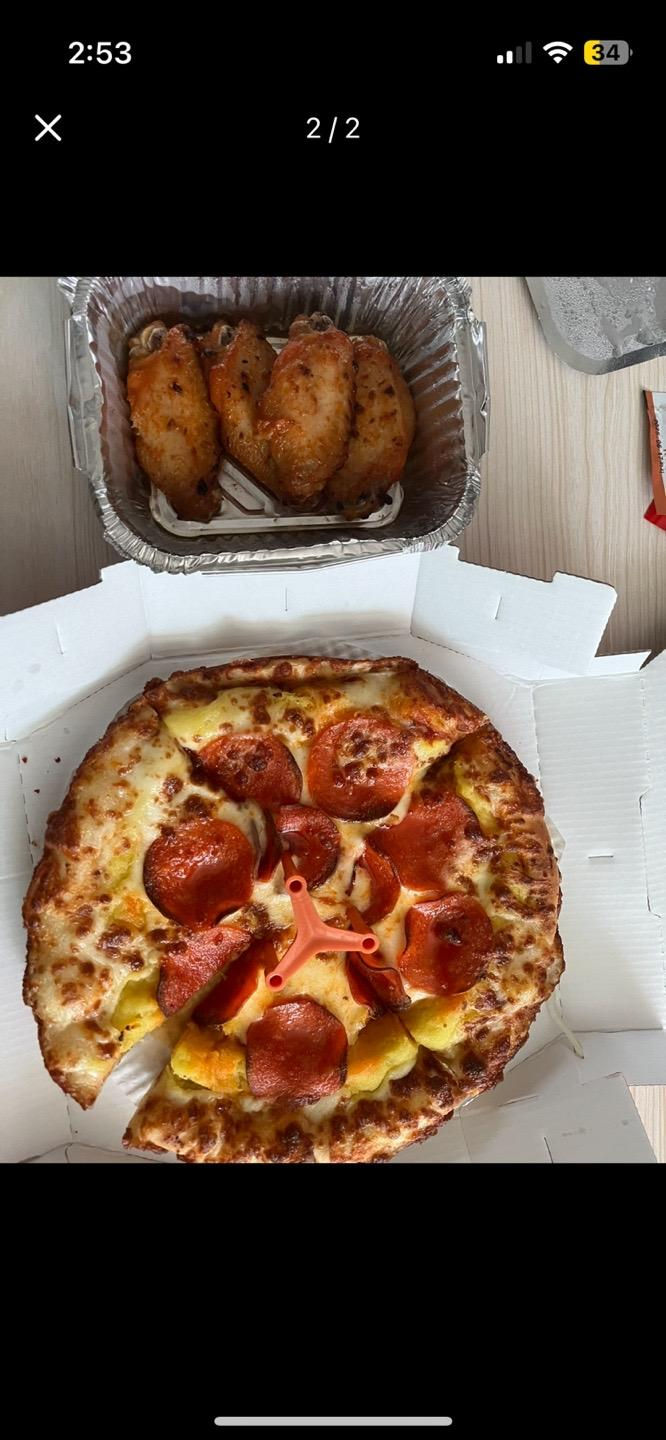Lunch Box: (0, 546, 665, 1162), (57, 277, 488, 574)
